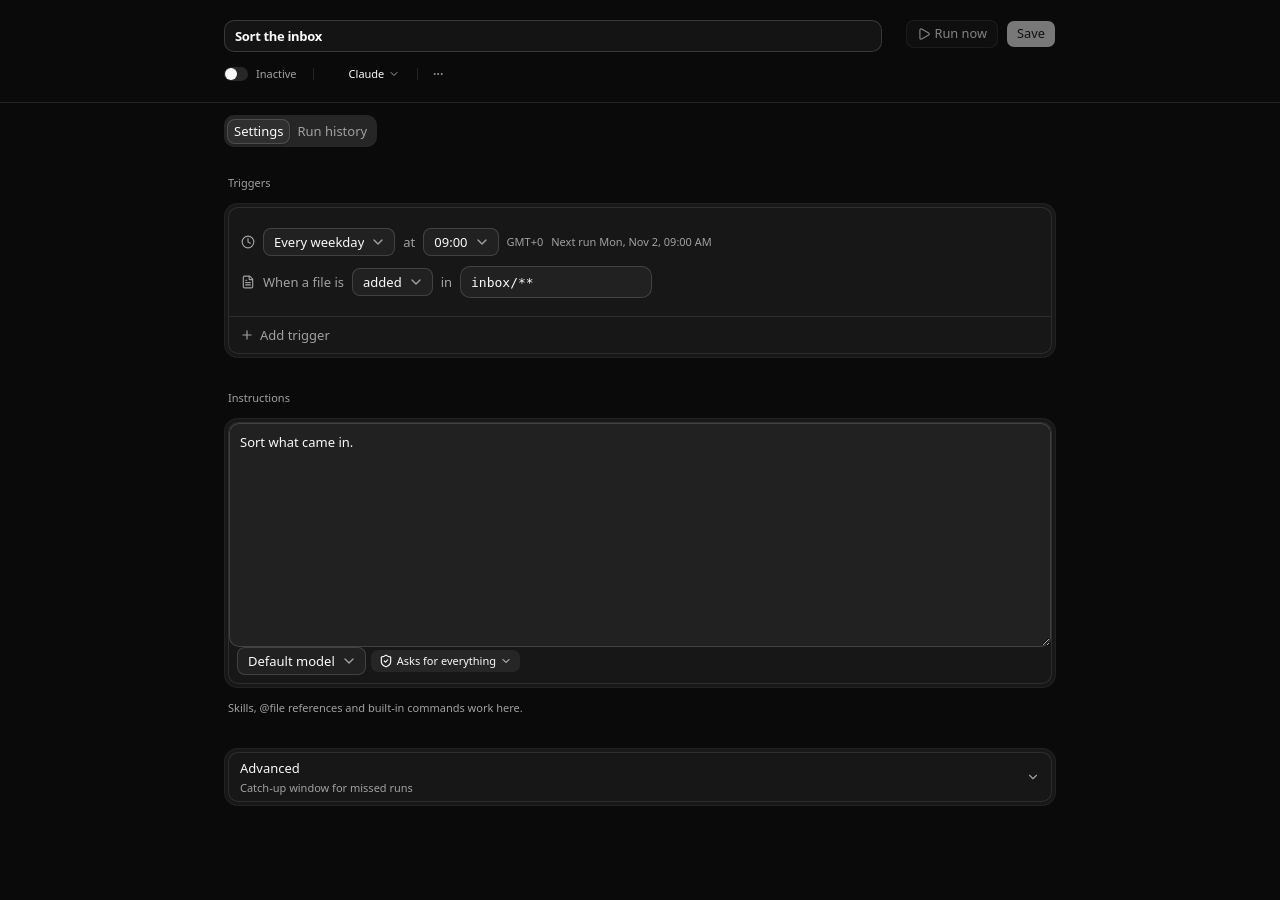
Test: a run events started reads Event, with its cause
This screenshot has width=1280, height=900.
Click the tab "Run history" at coordinates (332, 131), box [290,118,374,144]
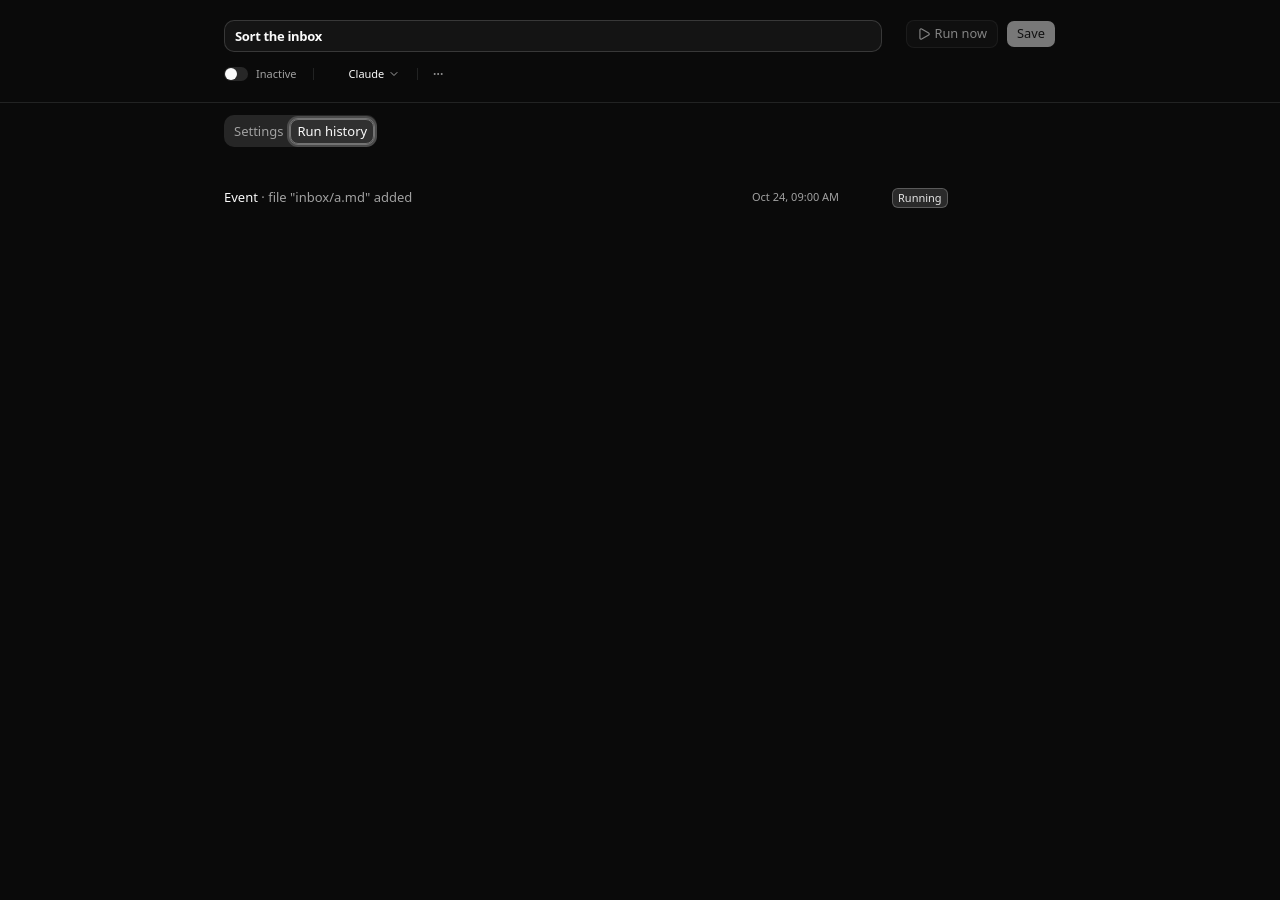
Expected: the list named "Run history" shows "Event · file \"inbox/a.md\" added", [224,188,948,208]
